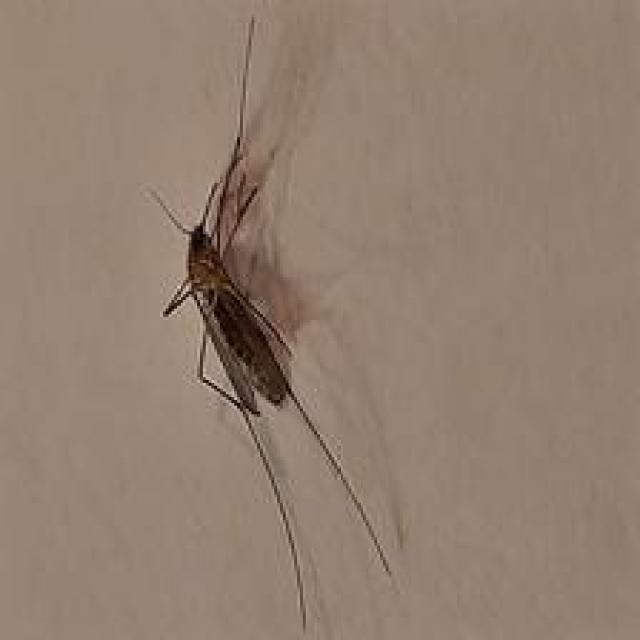Culex: (144, 13, 402, 636)
